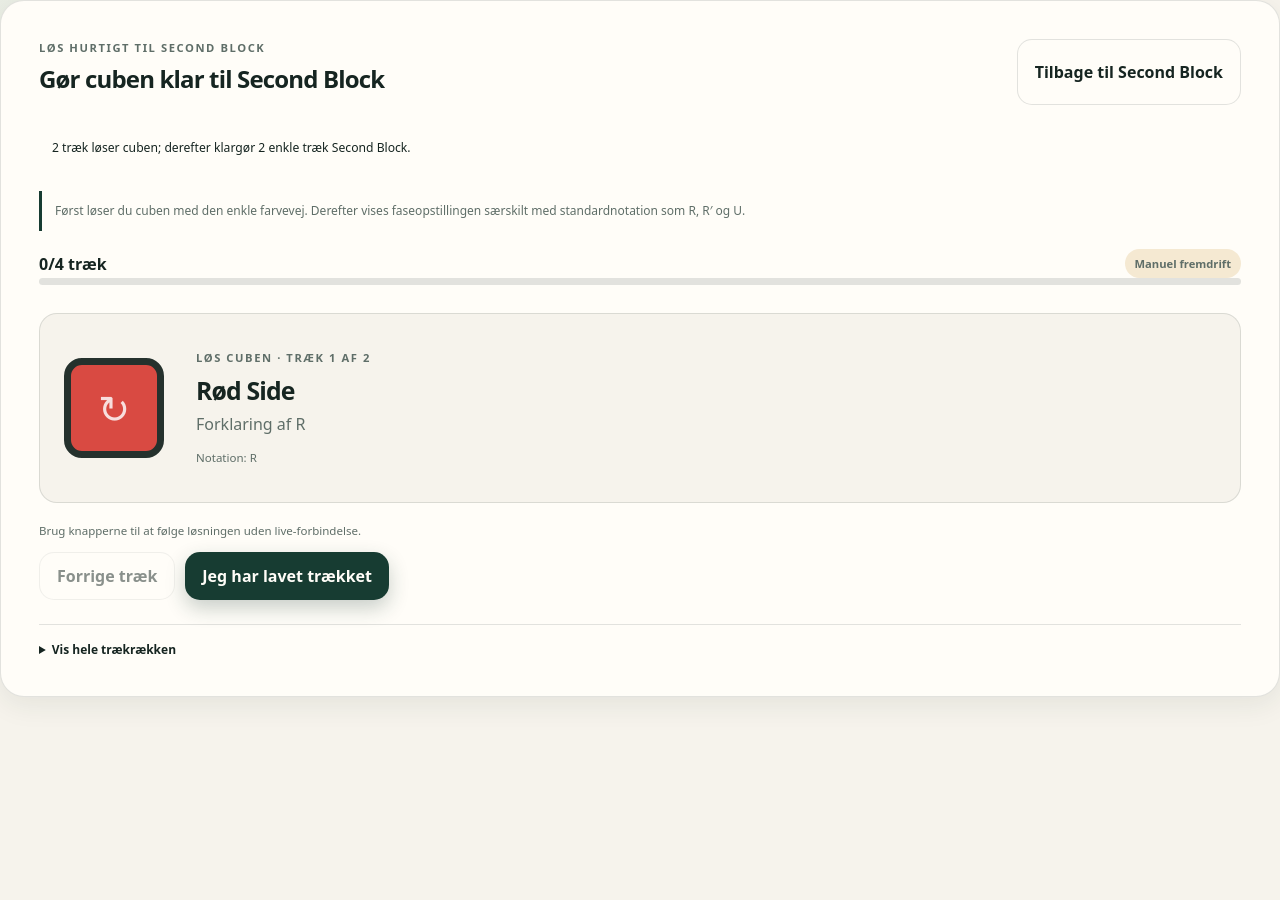
Test: Roux quick solve panel › continues from a solved cube into the selected phase setup
Check: the heading "Gør cuben klar til Second Block" is shown, box [39,66,384,92]
Check: the text "2 træk løser cuben; derefter klargør 2 enkle træk Second Block." is shown, box [52,139,411,156]
Click the button "Jeg har lavet trækket".
click(287, 576)  # box [185,552,389,600]
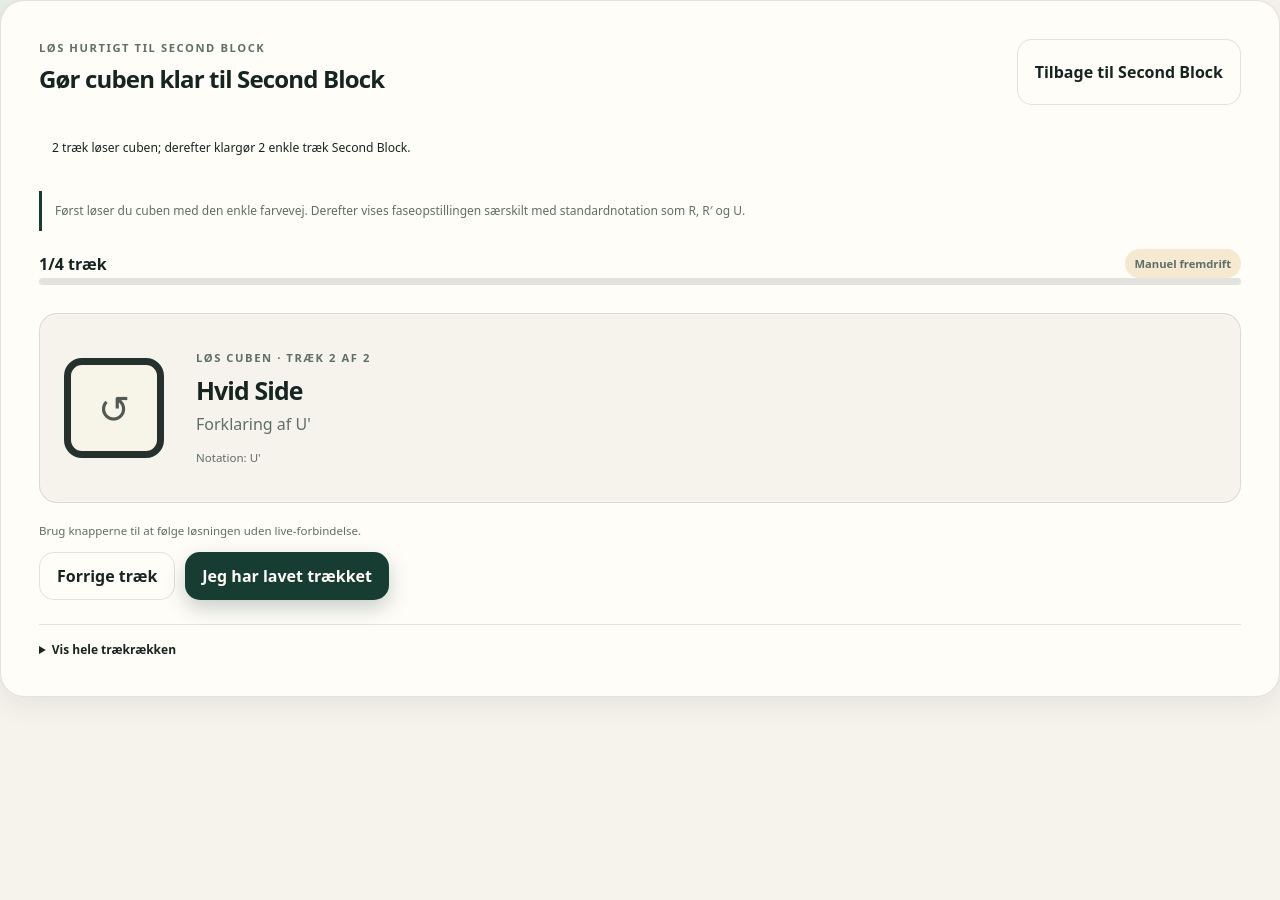
Click the button "Jeg har lavet trækket".
click(287, 576)  # box [185,552,389,600]
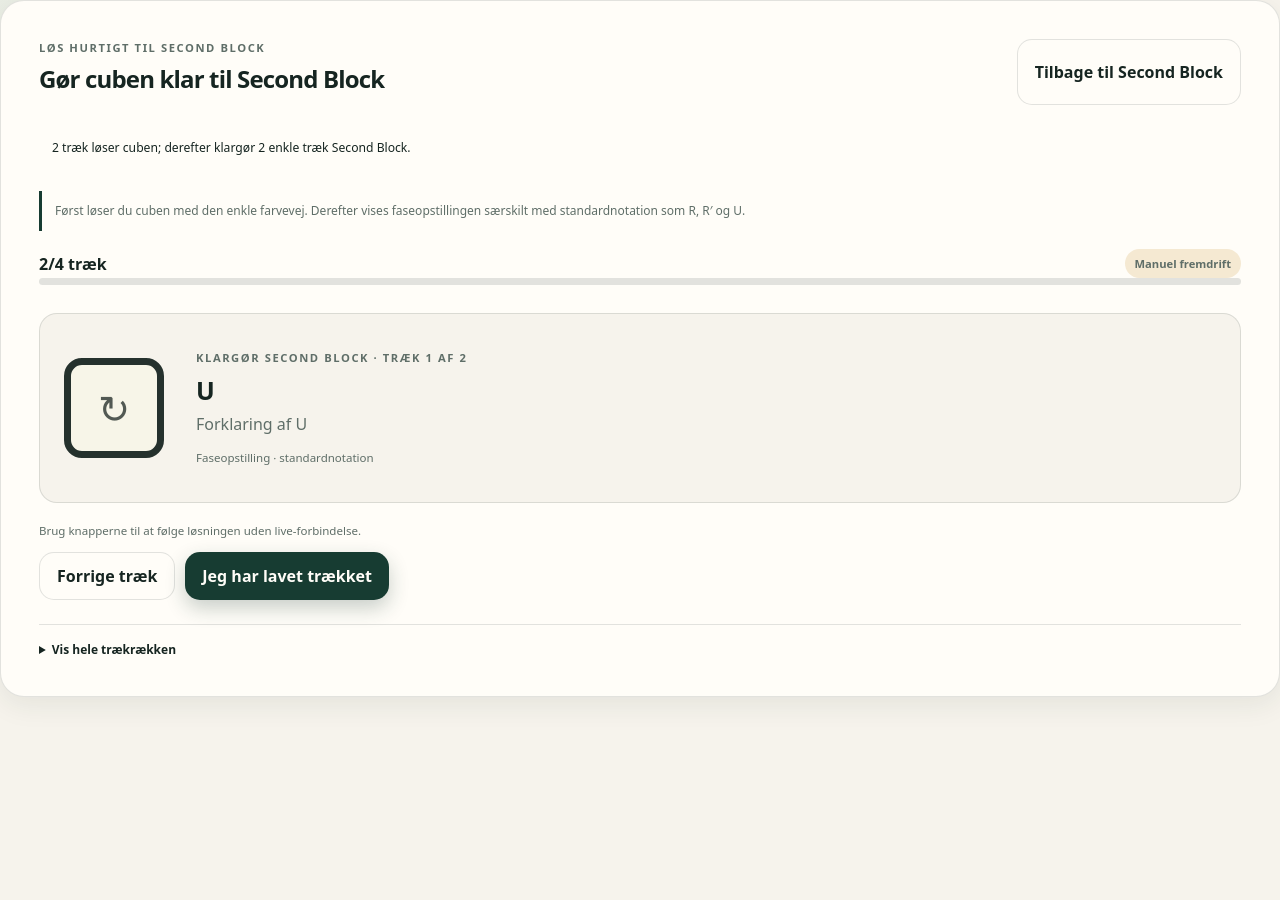
Check: the text "Klargør Second Block · træk 1 af 2" is shown, box [196,350,467,365]
